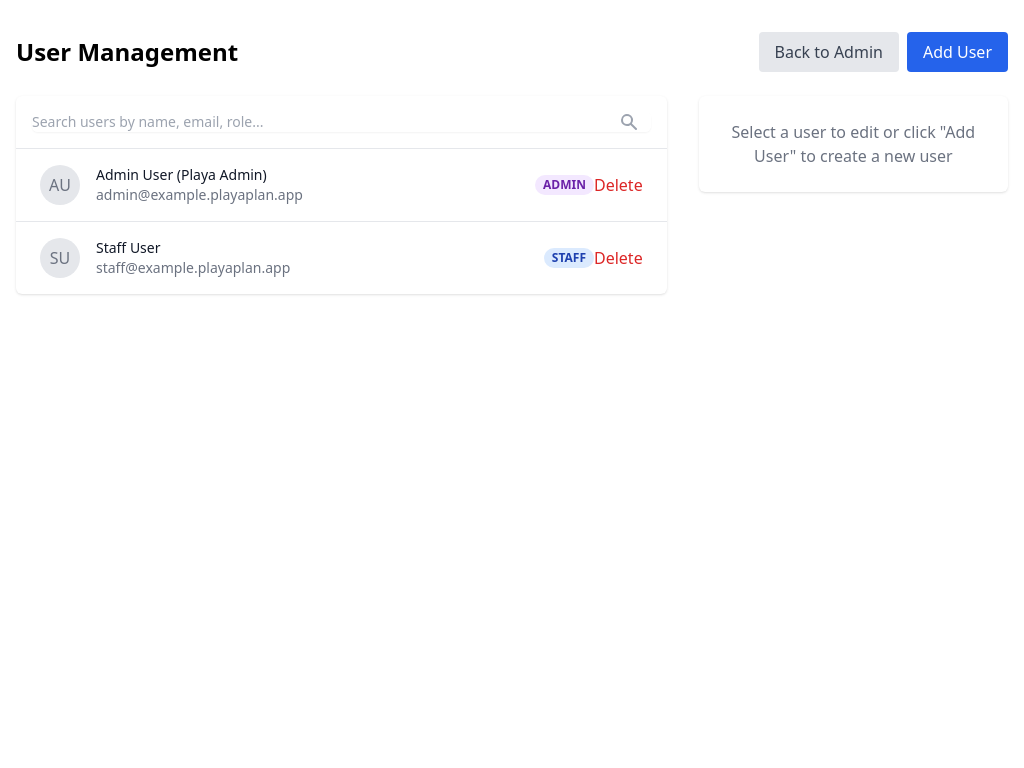
Test: AdminUserPage › shows the edit user form when a user is selected
# Click on first user
Click the text "Admin User (Playa Admin)" at (181, 174), box [96,165,267,184]
(page scrolled)
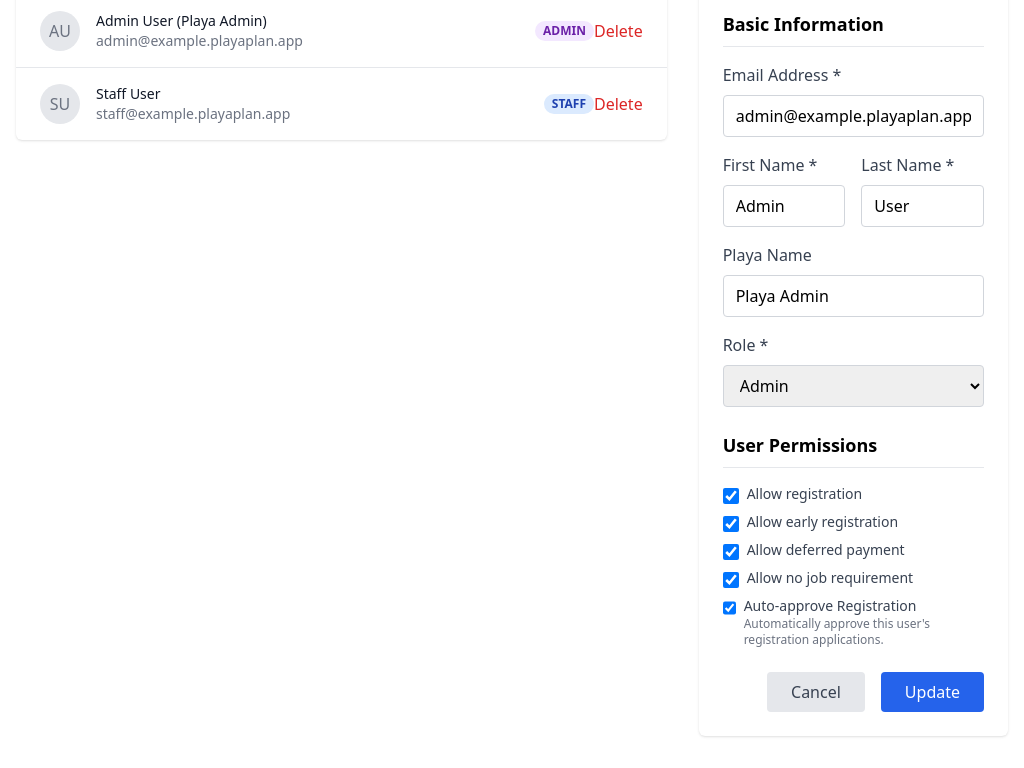
Result: the checkbox labelled "Auto-approve Registration" is checked at [723,600,736,616]
Result: the text "Automatically approve this user's registration applications." is shown at [744,615,930,648]
